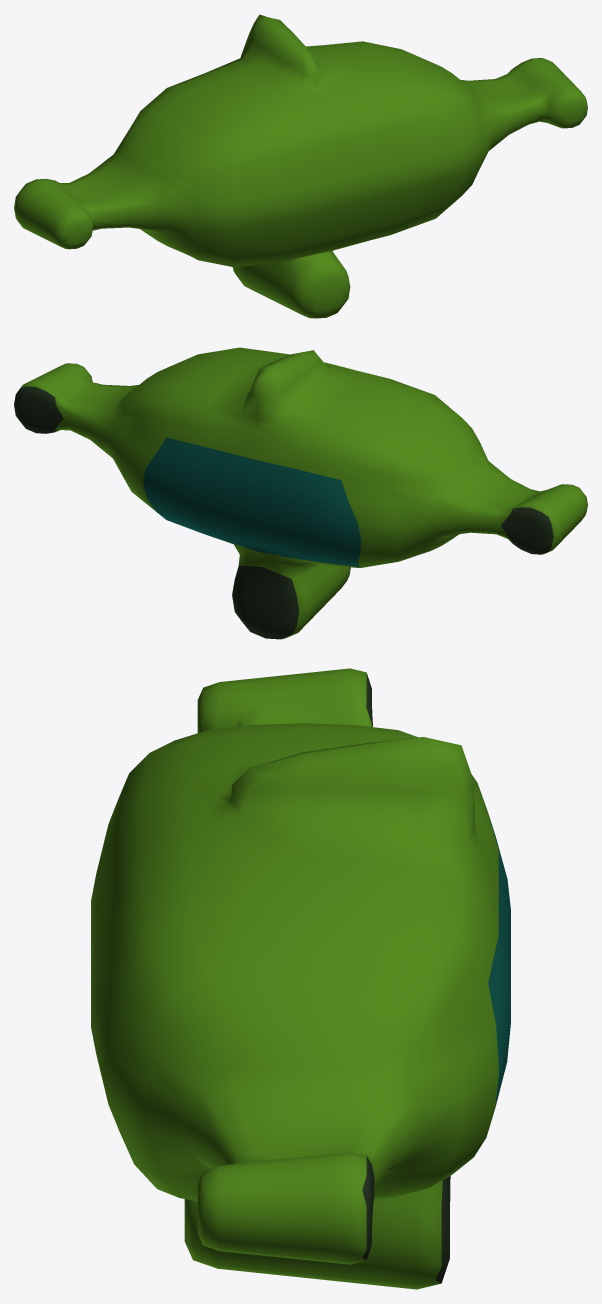
The model's file is alien1.FBX.
3 views of the same model, one above another, from view 1: azimuth 30°, elevation 25°; view 2: azimuth 150°, elevation 25°; view 3: azimuth 270°, elevation 25° (orthographic). The views are drawn at different scales.
Visible parts, largest first — view 1: alien1; view 2: alien1; view 3: alien1.
Boxes of the visible parts, box(x1,y1,x2,y2) form: alien1: box(14, 14, 587, 318); alien1: box(14, 347, 587, 639); alien1: box(91, 668, 510, 1289).
Bounding box in the file's own units: 109 × 36.28 × 51.89.
3 materials, 3 textured.
